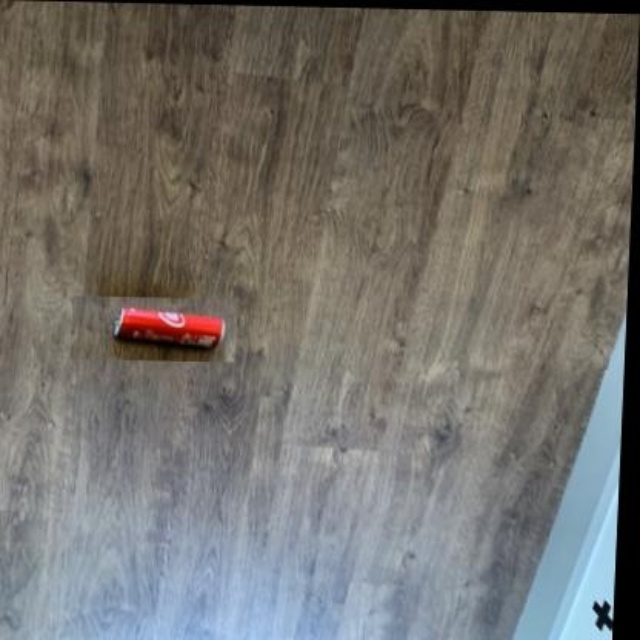trash: (114, 308, 223, 346)
